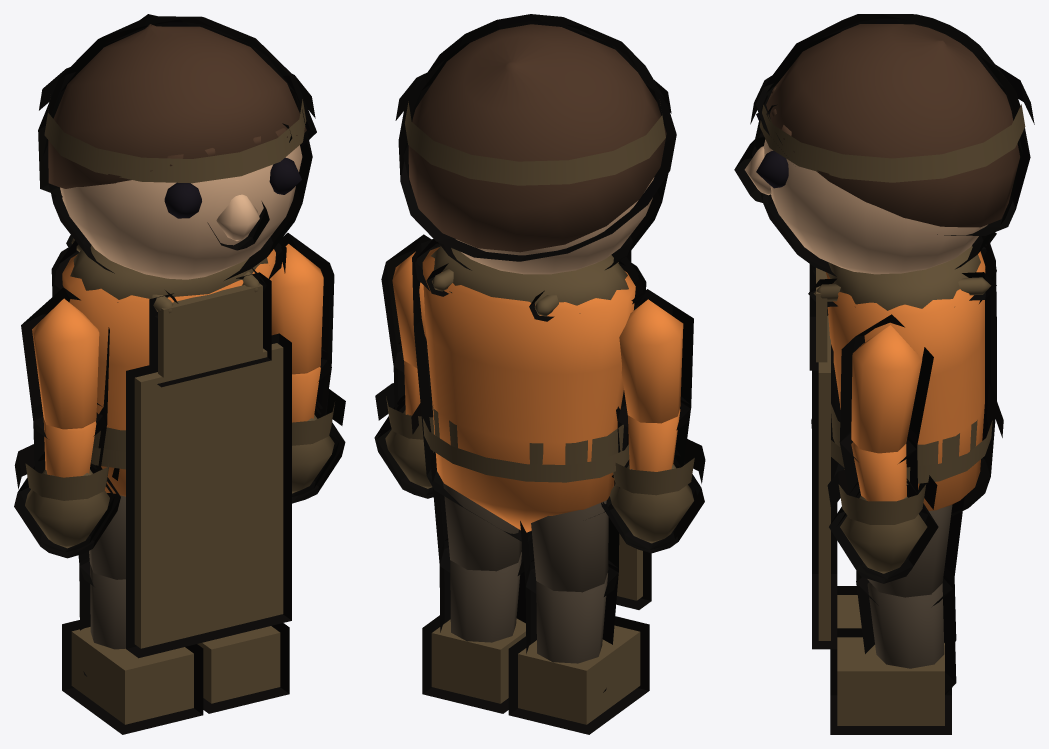
Rendered from smith.glb.
3 renders of one model, left to right at view 1: azimuth 30°, elevation 25°; view 2: azimuth 150°, elevation 25°; view 3: azimuth 270°, elevation 25°, orthographic.
Parts seen in each view (by area): view 1: Torso.001, Head, LegR, Torso, ArmR, ArmL, Head.001, HandR.001, LegL, HandL.001, HandR; view 2: Head, Torso, LegR, LegL, ArmR, Head.001, Torso.001, HandR.001, ArmL, HandL.001, HandR, HandL; view 3: Head, Torso, LegL, ArmL, Torso.001, Head.001, HandL.001, HandL, LegR.
Boxes of the visible parts, x1,y1,x2,y2 form: Torso.001: (66,235,291,658); Head: (38,14,316,280); LegR: (62,495,203,734); Torso: (51,239,286,496); ArmR: (21,287,109,477); ArmL: (271,233,334,422); Head.001: (39,67,315,183); HandR.001: (14,444,120,558); LegL: (197,623,289,713); HandL.001: (292,389,345,503); HandR: (16,456,114,552); Head: (398,14,676,274); Torso: (412,239,646,542); LegR: (508,500,649,734); LegL: (422,452,525,713); ArmR: (616,289,693,487); Head.001: (395,73,671,185); Torso.001: (411,251,651,609); HandR.001: (601,439,705,553); ArmL: (381,234,431,415); HandL.001: (374,383,434,498); HandR: (602,457,698,549); HandL: (377,399,433,495); Head: (734,14,1030,276); Torso: (813,240,996,516); LegL: (830,497,964,734); ArmL: (839,314,933,501); Torso.001: (808,232,1003,649); Head.001: (750,64,1034,182); HandL.001: (827,469,938,583); HandL: (837,481,937,579); LegR: (837,578,956,641).
Bounding box in the file's own units: 0.9203 × 1.88 × 0.7571.
